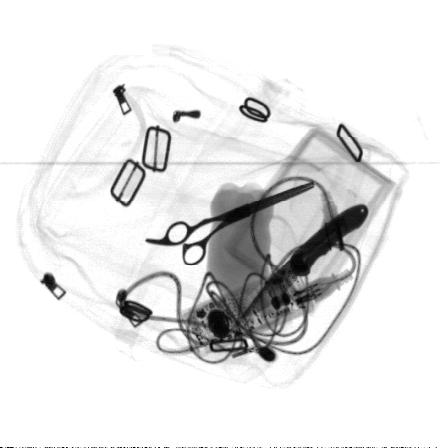Knife: (238, 203, 369, 319)
Scissors: (147, 180, 316, 267)
